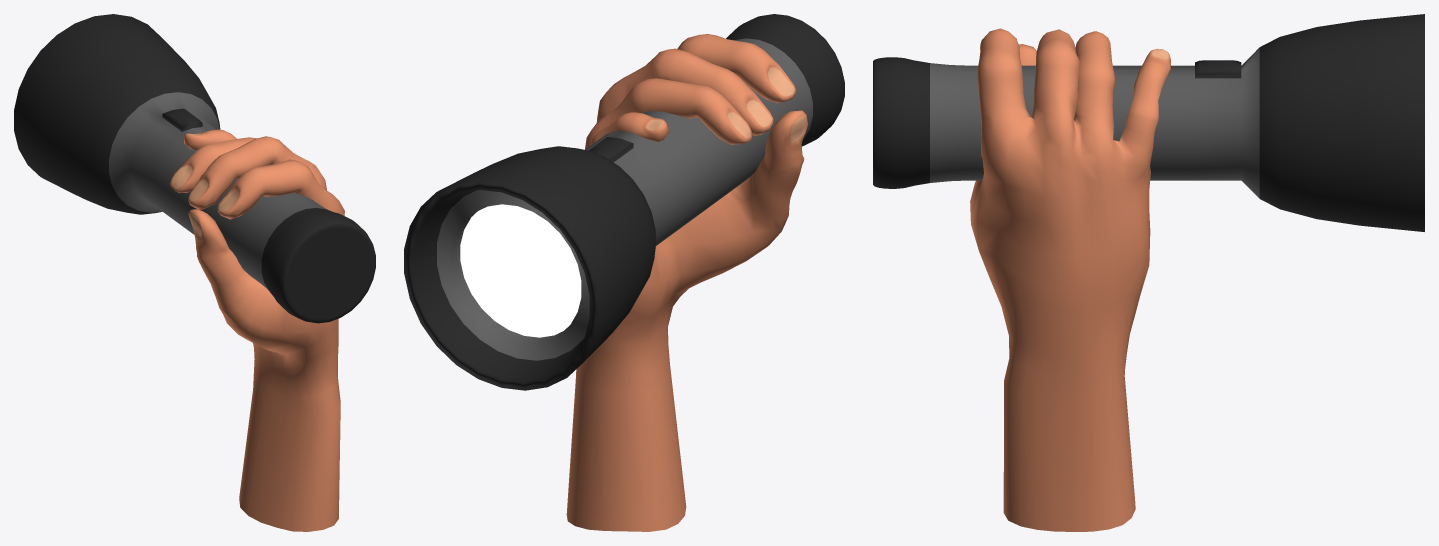
The model's file is Hand and FlashLight.glb.
3 renders of one model, left to right at view 1: azimuth 30°, elevation 25°; view 2: azimuth 150°, elevation 25°; view 3: azimuth 270°, elevation 25°, orthographic. The views are drawn at different scales.
Visible parts, largest first — view 1: Cylinder, theooo-base.003; view 2: Cylinder, theooo-base.003; view 3: theooo-base.003, Cylinder.
Boxes of the visible parts, <box> form: Cylinder: <box>14,14,375,323</box>; theooo-base.003: <box>169,129,344,531</box>; Cylinder: <box>404,14,844,390</box>; theooo-base.003: <box>566,34,807,531</box>; theooo-base.003: <box>970,28,1170,531</box>; Cylinder: <box>873,14,1424,231</box>.
Size of the model in its own units: 0.2729 by 0.6216 by 0.674.
